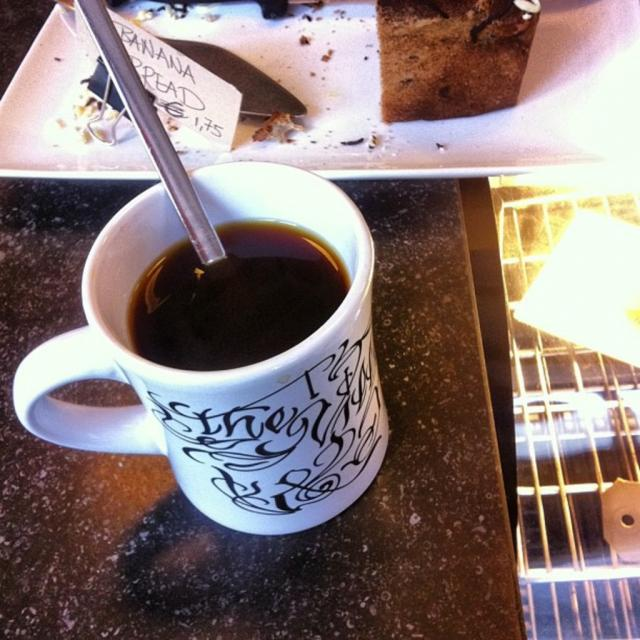Coffee: (12, 157, 394, 536), (127, 216, 356, 368)
